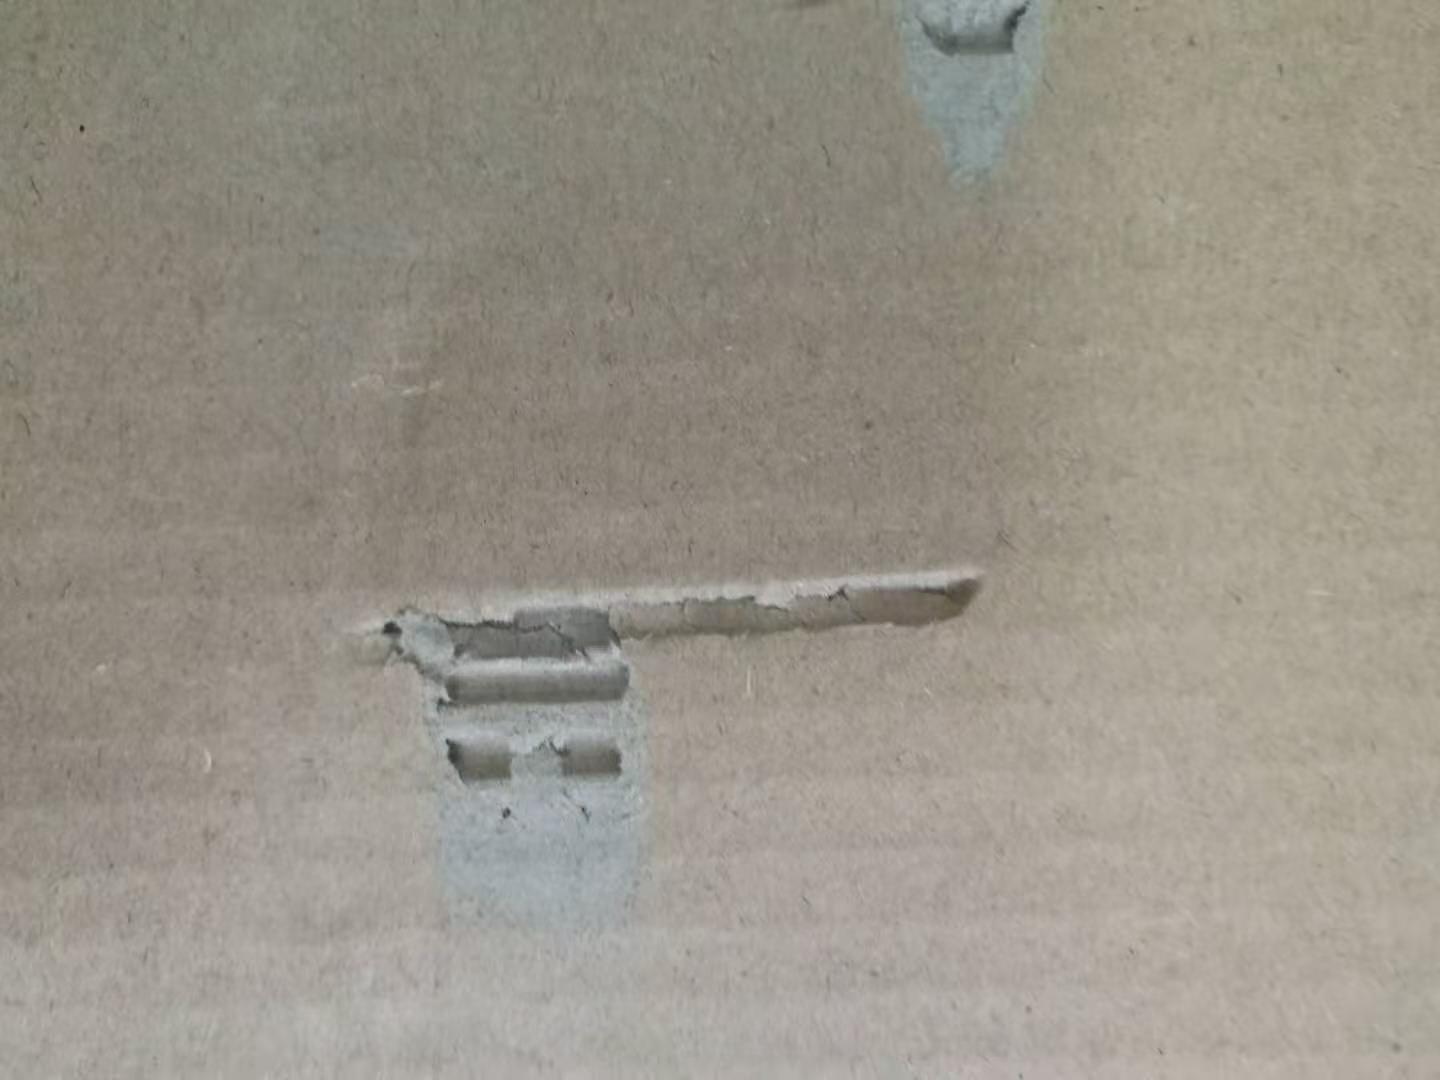defect: (313, 521, 1057, 972), (867, 2, 1094, 220)
